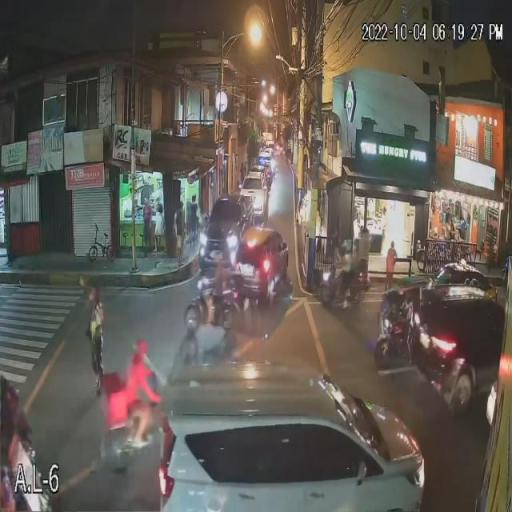helmet: (206, 249, 224, 264)
motorcycle: (100, 378, 168, 470), (373, 288, 421, 372), (182, 276, 245, 334), (320, 265, 366, 312)
rider: (121, 340, 162, 446), (200, 243, 234, 318), (334, 238, 360, 298)
